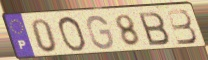0: (30, 18, 59, 54)
8: (114, 14, 141, 47)
B: (136, 10, 172, 47), (165, 8, 199, 46)
G: (85, 14, 115, 50)
O: (56, 15, 88, 53)
